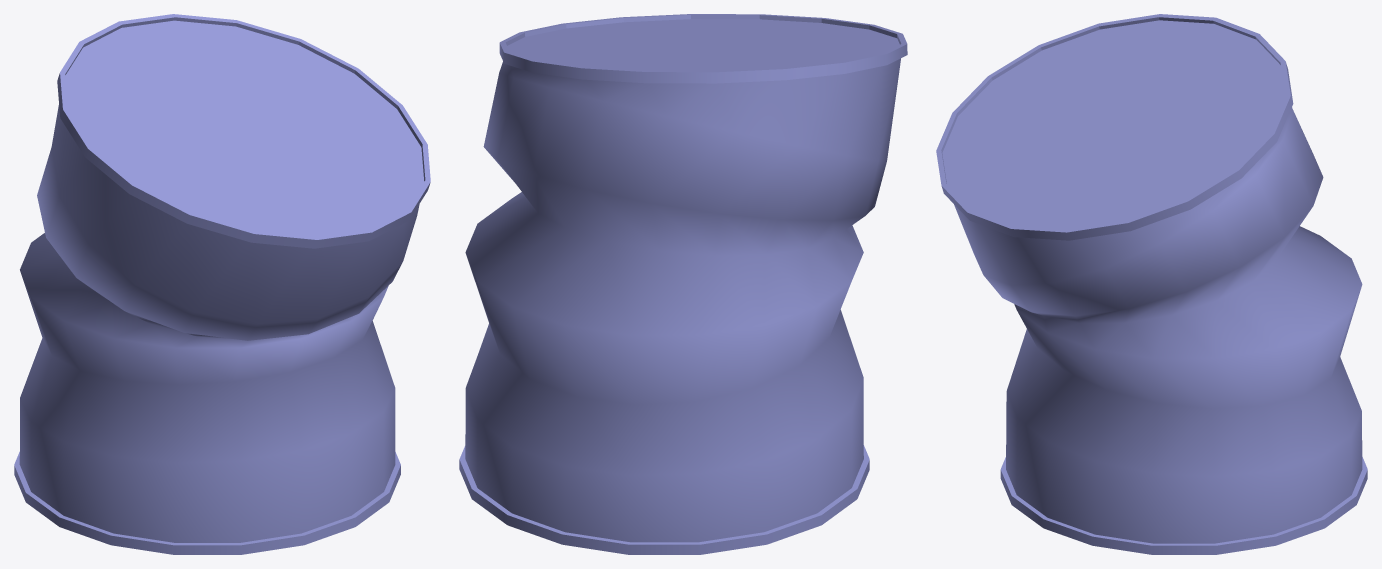
Rendered from conserve2.FBX.
The picture shows the model from 3 angles, left to right: view 1: azimuth 30°, elevation 25°; view 2: azimuth 150°, elevation 25°; view 3: azimuth 270°, elevation 25°; orthographic projection. The views are drawn at different scales.
Parts seen in each view (by area): view 1: conserve2; view 2: conserve2; view 3: conserve2.
Boxes of the visible parts, x1=… form: conserve2: x1=14, y1=14, x2=430, y2=554; conserve2: x1=459, y1=14, x2=907, y2=554; conserve2: x1=936, y1=14, x2=1367, y2=554.
Bounding box in the file's own units: 6.79 × 8.31 × 8.05.
